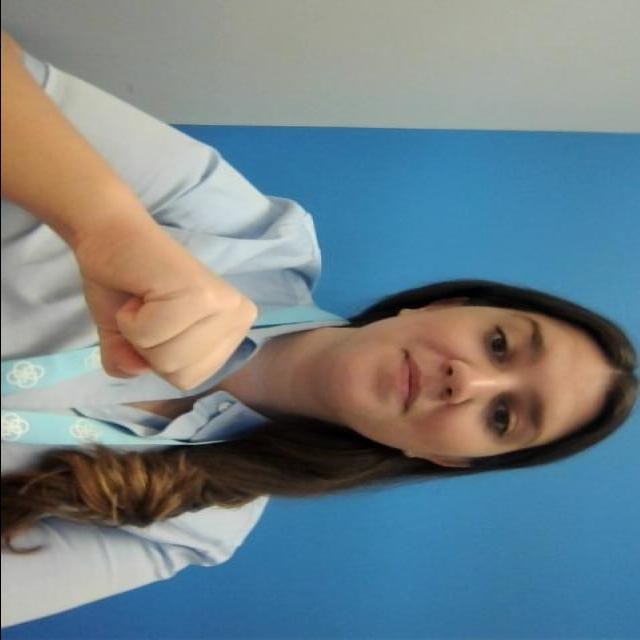Rock: (42, 223, 282, 423)
